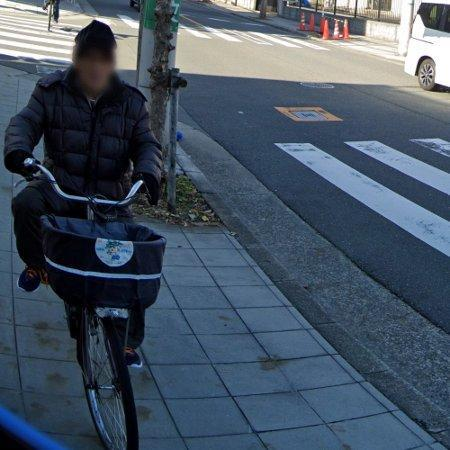bicycles: (29, 162, 166, 450)
